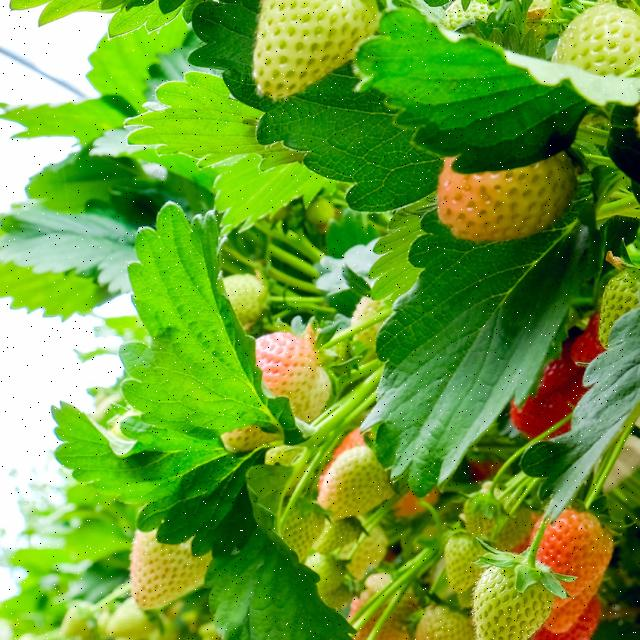Ripe Strawberry: (510, 359, 594, 439), (544, 599, 601, 639), (572, 314, 606, 367)
